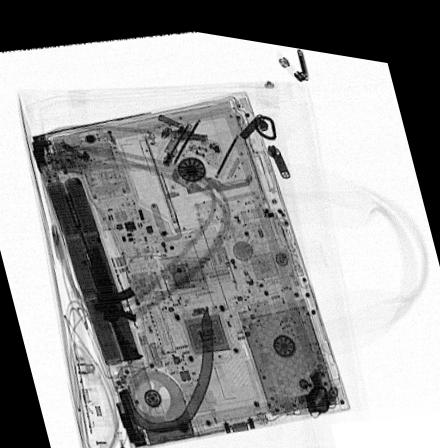Gun: (61, 187, 142, 358)
